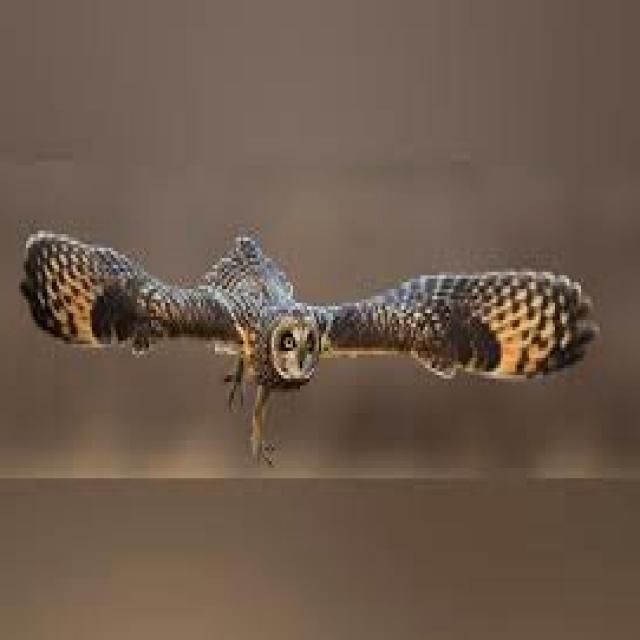owl: (24, 231, 597, 454)
